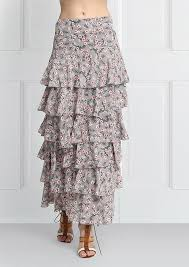C_skirt: (32, 13, 129, 230)
